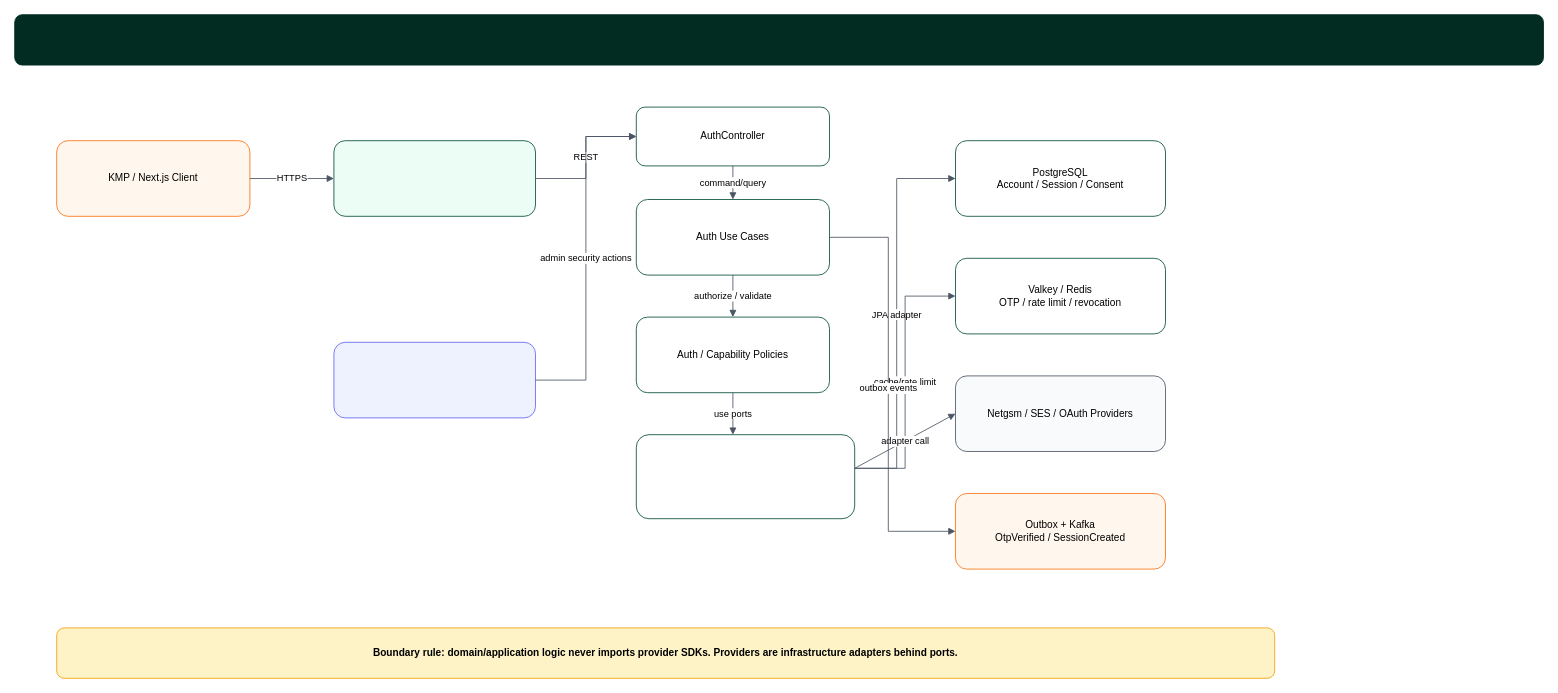
The diagram is 1558 pixels wide and 693 high, and some of its shapes have lost their labels. The centre of each missing label's shape, as x and y in pixels:
"Admin BFF / Security Admin" belongs at [434,379].
"API Gateway / App BFF" belongs at [434,178].
"Application Ports OtpSender / TokenService / AccountRepo" belongs at [745,476].
"Viaverse Auth — Component Diagram" belongs at [779,39].
